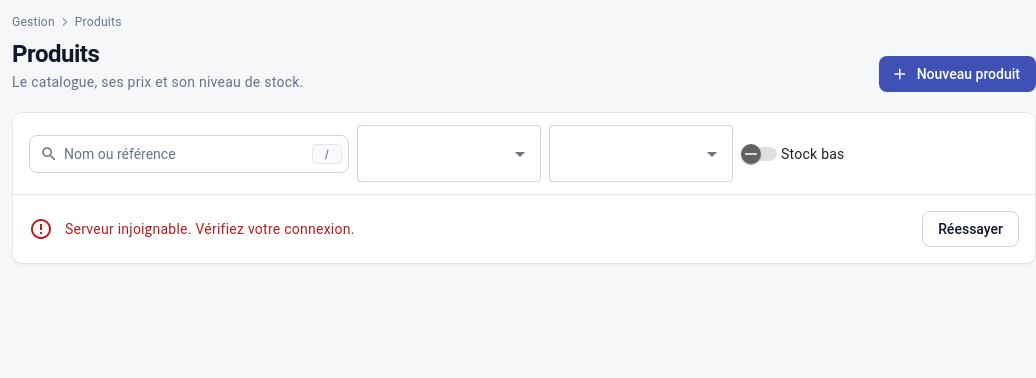
Test: ProductListComponent › shows the error in French and reloads on demand
This screenshot has width=1036, height=378.
Expected: the message with class "error-panel" shows "Serveur injoignable", [65,221,355,237]
Click the button "Réessayer": (971, 229) [922,211,1019,247]
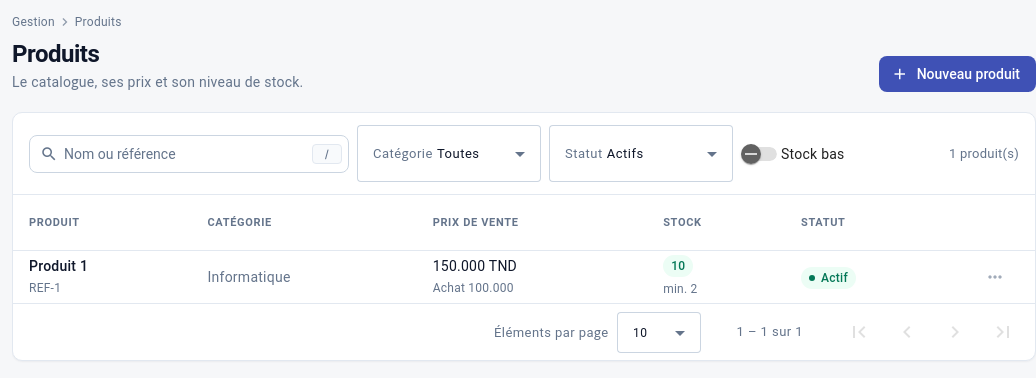
Expected: the message with class "error-panel" is gone
